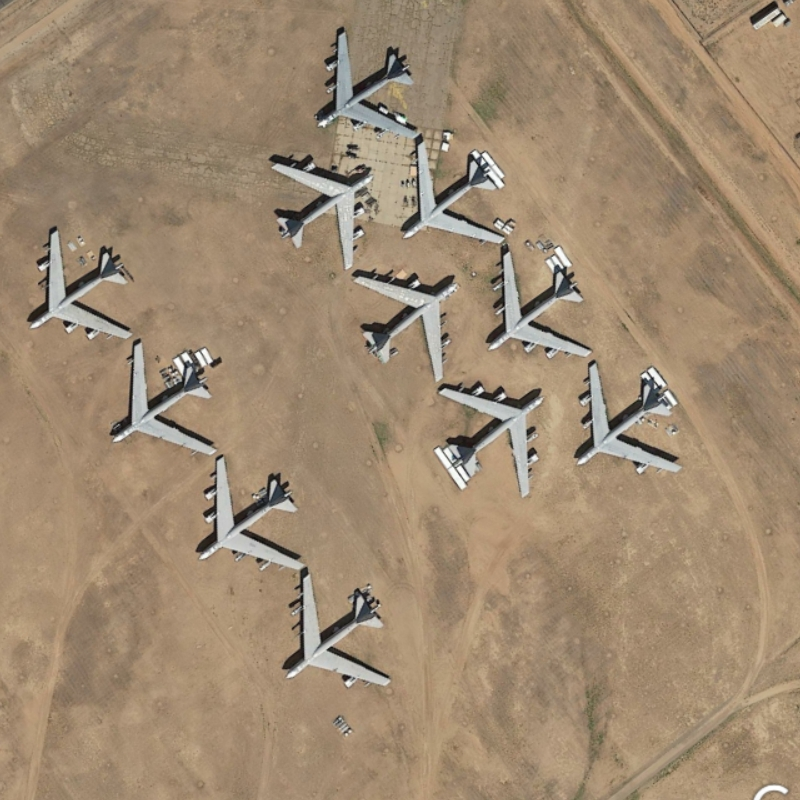A8: (433, 375, 560, 506), (280, 566, 399, 694), (23, 219, 143, 345), (348, 258, 465, 387), (309, 21, 428, 145), (106, 337, 225, 461), (573, 360, 689, 480), (268, 149, 378, 272), (485, 242, 596, 363), (198, 458, 313, 572), (399, 137, 514, 250)
